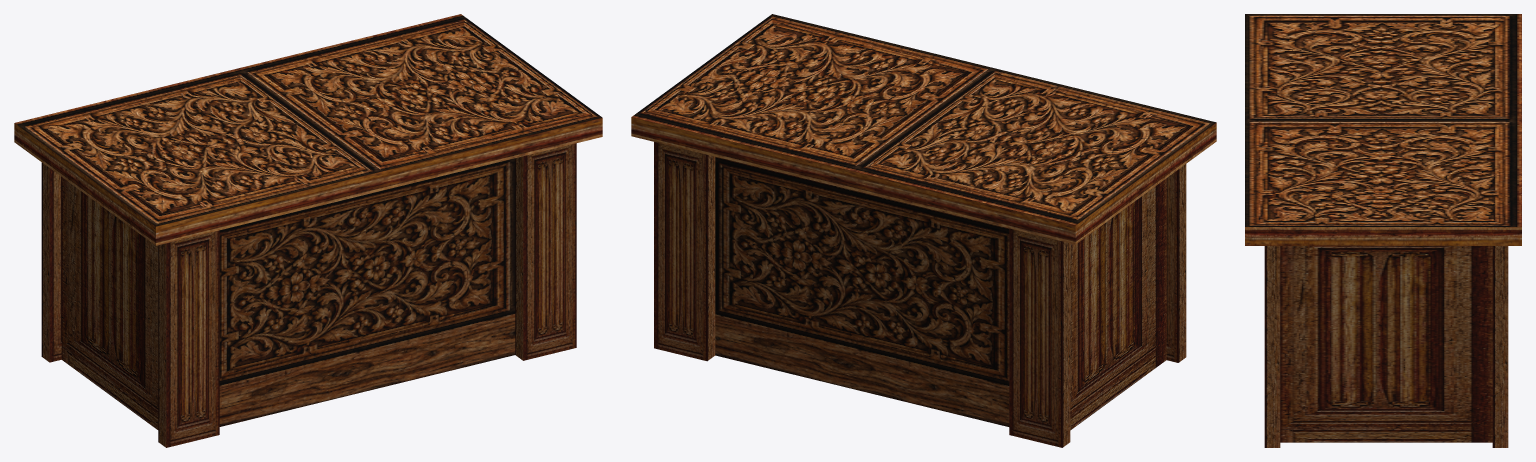
File: mm9_deco_bench04.glb
The picture shows the model from 3 angles, left to right: view 1: azimuth 30°, elevation 25°; view 2: azimuth 150°, elevation 25°; view 3: azimuth 270°, elevation 25°; orthographic projection. The views are drawn at different scales.
Parts seen in each view (by area): view 1: Bench04; view 2: Bench04; view 3: Bench04.
Boxes of the visible parts, x1=… form: Bench04: x1=14, y1=14, x2=602, y2=447; Bench04: x1=631, y1=14, x2=1216, y2=447; Bench04: x1=1245, y1=14, x2=1521, y2=447.
Size of the model in its own units: 1.52 by 0.7589 by 0.8333.
2 materials, 2 textured.
